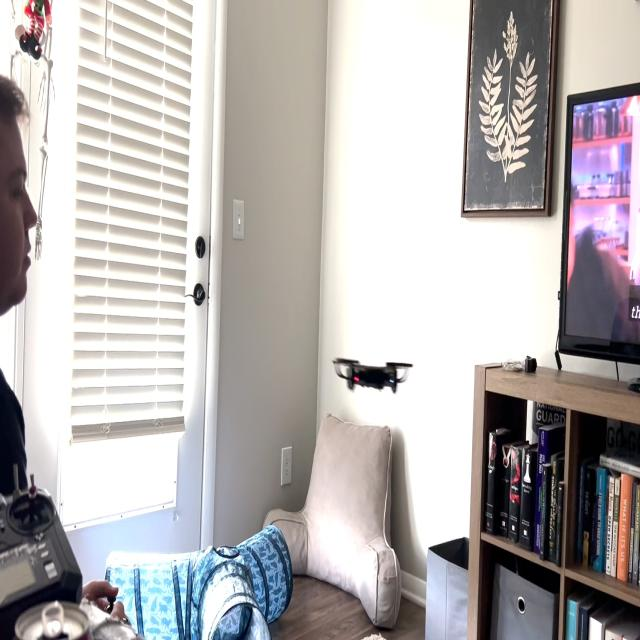drone: (330, 343, 414, 408)
